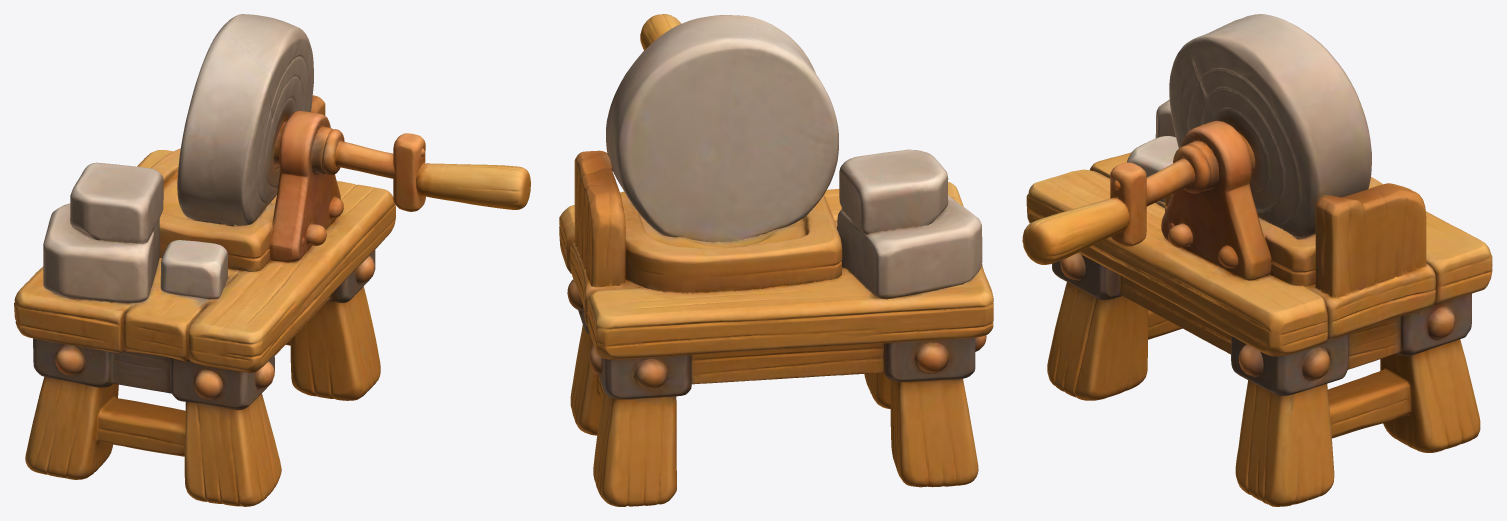
Rendered from ban-mai.glb.
3 renders of one model, left to right at view 1: azimuth 30°, elevation 25°; view 2: azimuth 150°, elevation 25°; view 3: azimuth 270°, elevation 25°, orthographic. The views are drawn at different scales.
Size of the model in its own units: 0.3339 by 0.2931 by 0.3016.
Materials: 1 (1 with a texture image).
